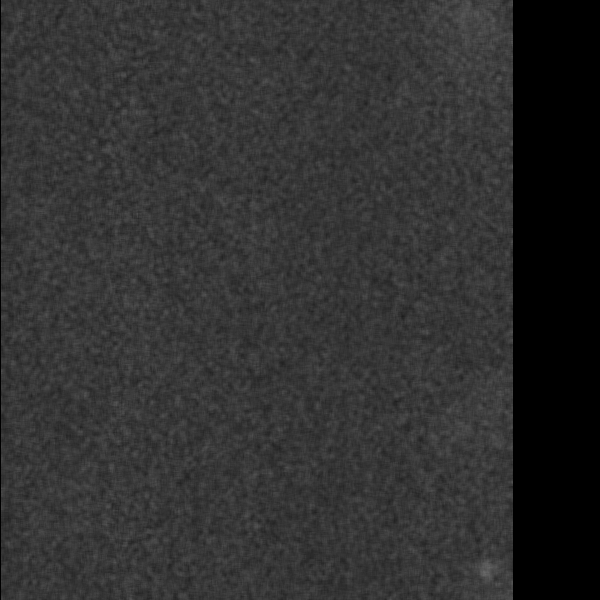spark: (443, 3, 497, 43), (466, 552, 502, 590)
